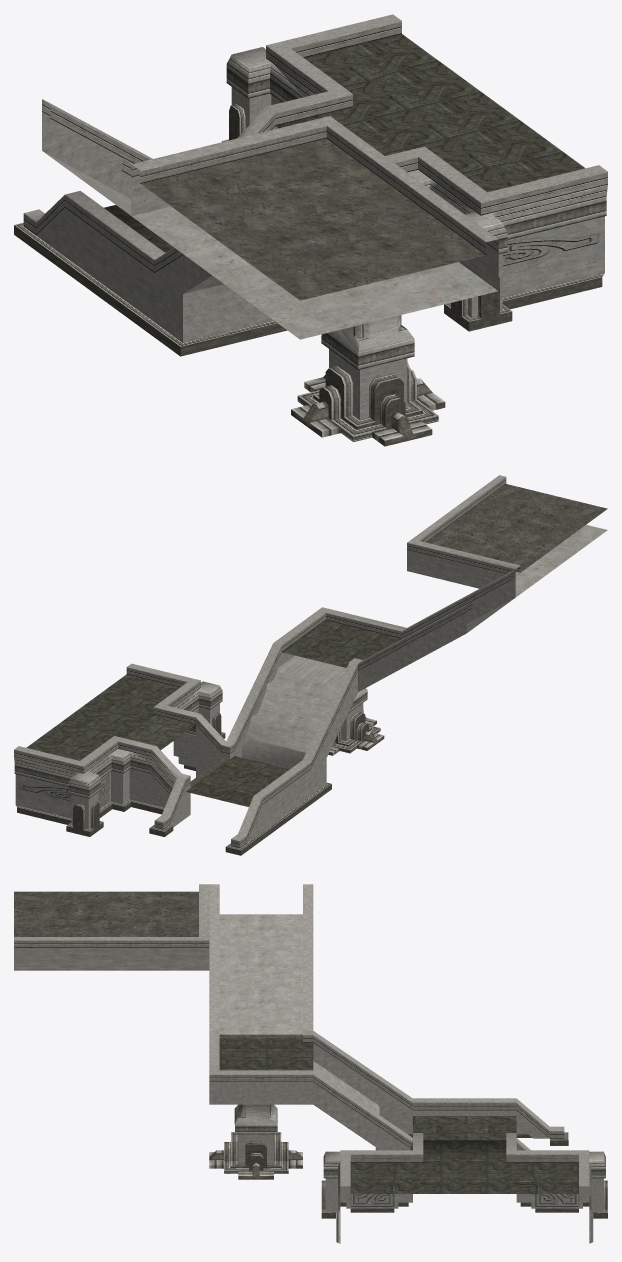
The model's file is DWARF_PALACE_FORGE_STAIRSA.fbx.
3 renders of one model, top to bottom at view 1: azimuth 30°, elevation 25°; view 2: azimuth 150°, elevation 25°; view 3: azimuth 270°, elevation 25°, orthographic. The views are drawn at different scales.
Visible parts, largest first — view 1: DWARF_PALACE_FORGE_STAIRSA; view 2: DWARF_PALACE_FORGE_STAIRSA; view 3: DWARF_PALACE_FORGE_STAIRSA.
Boxes of the visible parts, x1,y1,x2,y2 form: DWARF_PALACE_FORGE_STAIRSA: (14, 14, 607, 446); DWARF_PALACE_FORGE_STAIRSA: (14, 475, 607, 855); DWARF_PALACE_FORGE_STAIRSA: (14, 884, 607, 1243).
Bounding box in the file's own units: 190244 × 106026 × 286159.
Materials: 10 (10 with a texture image).
